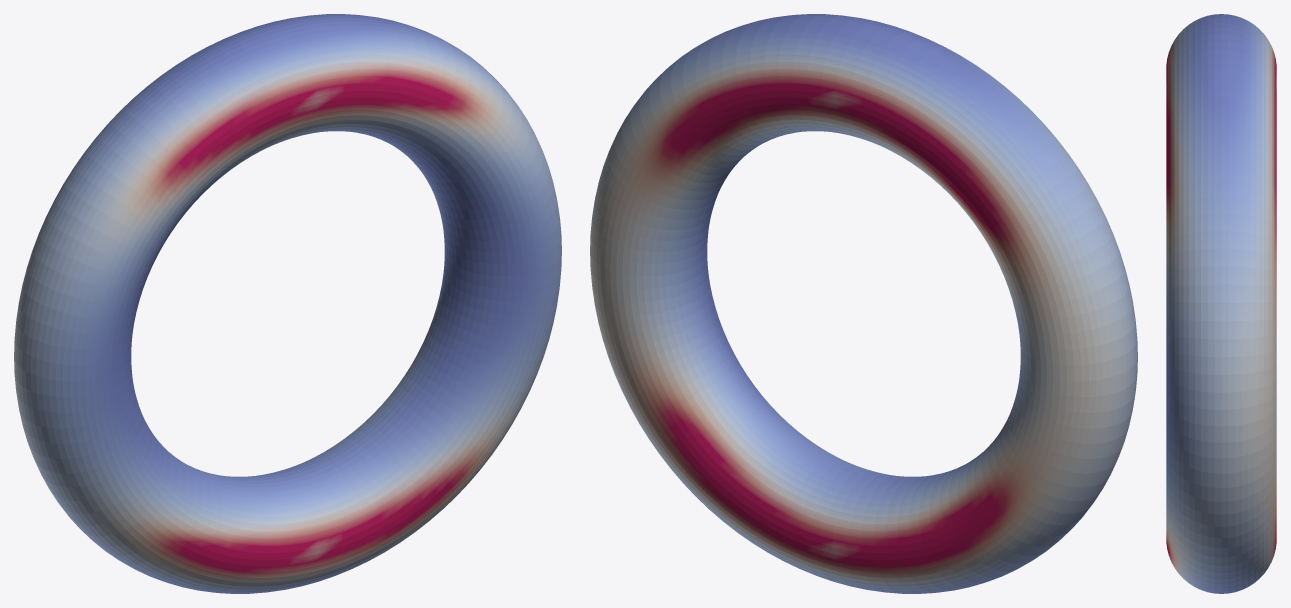
3 renders of one model, left to right at view 1: azimuth 30°, elevation 25°; view 2: azimuth 150°, elevation 25°; view 3: azimuth 270°, elevation 25°, orthographic. The views are drawn at different scales.
Visible parts, largest first — view 1: world; view 2: world; view 3: world.
Boxes of the visible parts, <box> form: world: <box>14,14,561,593</box>; world: <box>590,14,1137,593</box>; world: <box>1166,14,1276,593</box>.
Size of the model in its own units: 23.07 by 23.07 by 4.39.
